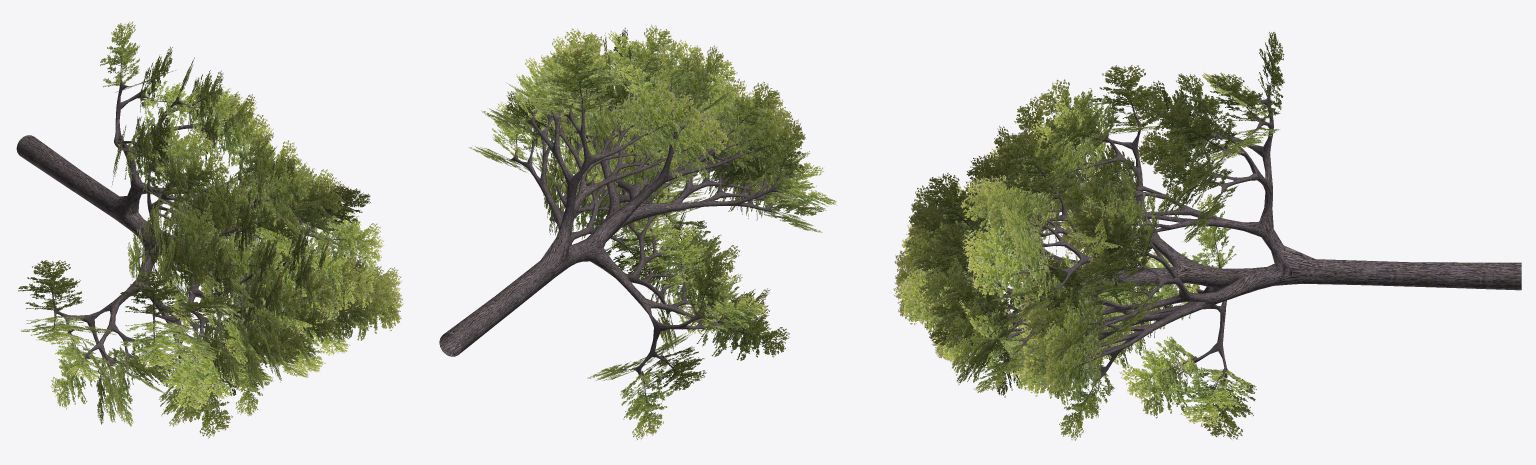
Rendered from Sandbox Tree.dae.
3 renders of one model, left to right at view 1: azimuth 30°, elevation 25°; view 2: azimuth 150°, elevation 25°; view 3: azimuth 270°, elevation 25°, orthographic. The views are drawn at different scales.
Parts seen in each view (by area): view 1: group, group_1; view 2: group, group_1; view 3: group, group_1.
Part boxes in pixels (x1,y1,x2,y2): group: (18, 21, 403, 438); group_1: (16, 76, 322, 368); group: (469, 24, 836, 440); group_1: (439, 92, 782, 380); group: (893, 32, 1284, 440); group_1: (980, 91, 1521, 380).
Size of the model in its own units: 16.72 by 18.64 by 24.59.
2 materials, 2 textured.
